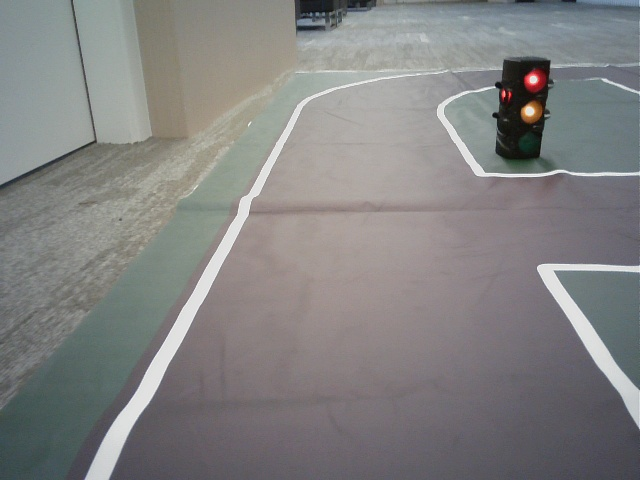red: (511, 63, 545, 158)
